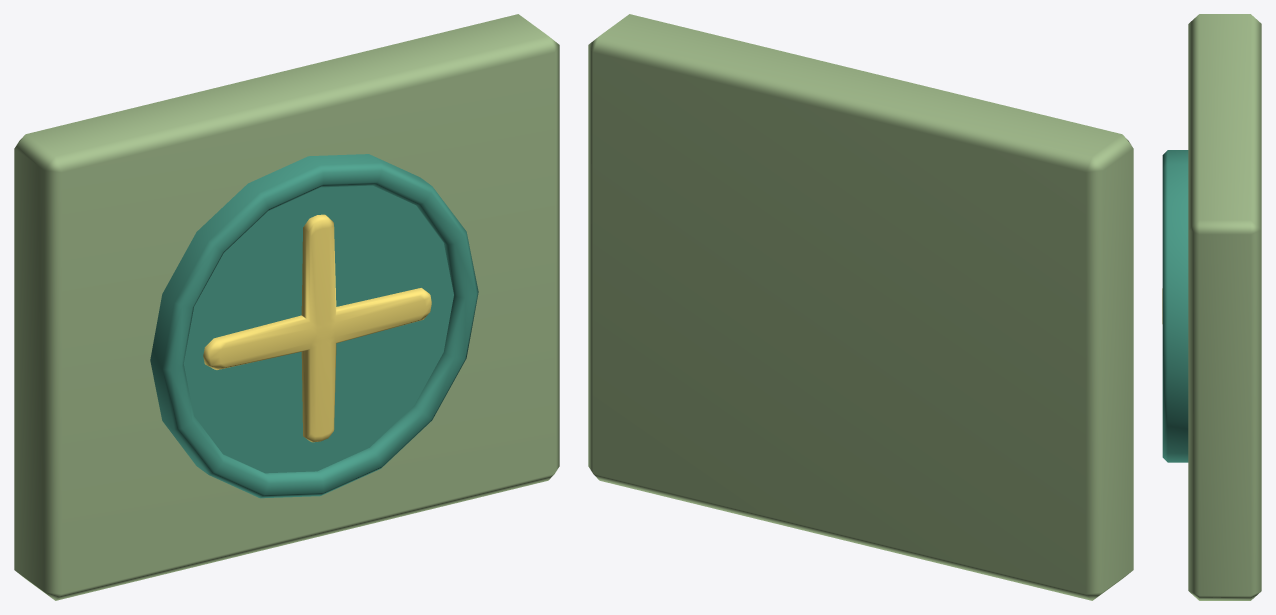
The model's file is Note_5.glb.
3 views of the same model, side by side, from view 1: azimuth 30°, elevation 25°; view 2: azimuth 150°, elevation 25°; view 3: azimuth 270°, elevation 25° (orthographic). The views are drawn at different scales.
Parts seen in each view (by area): view 1: Note_5; view 2: Note_5; view 3: Note_5.
Part boxes in pixels (x1,y1,x2,y2): Note_5: (14,14,559,600); Note_5: (588,14,1133,600); Note_5: (1162,14,1261,600).
Size of the model in its own units: 0.3718 by 0.3067 by 0.0727.
1 material, 1 textured.
